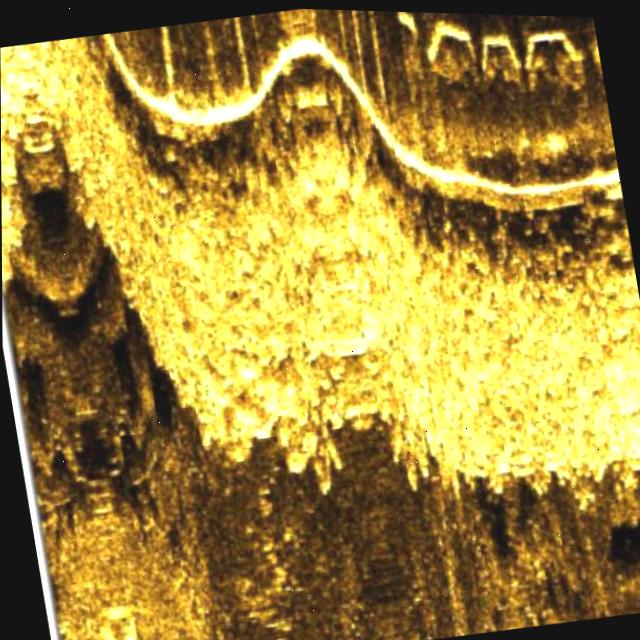bedrock group: (0, 0, 640, 571)
